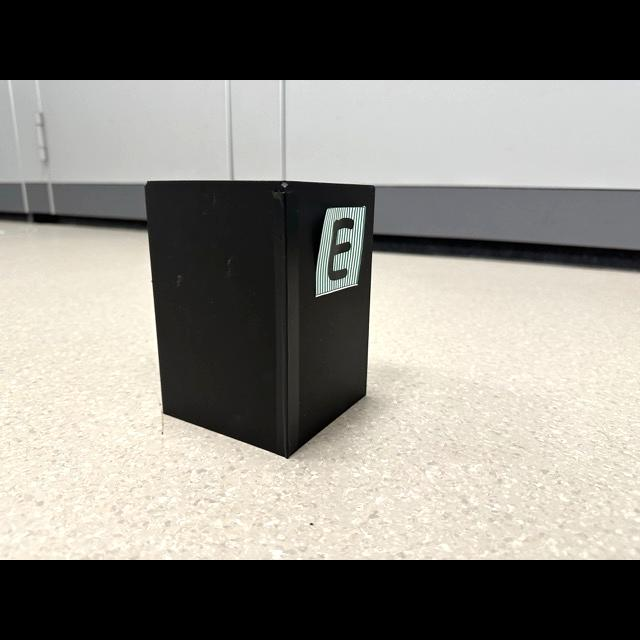E: (328, 217, 354, 281)
